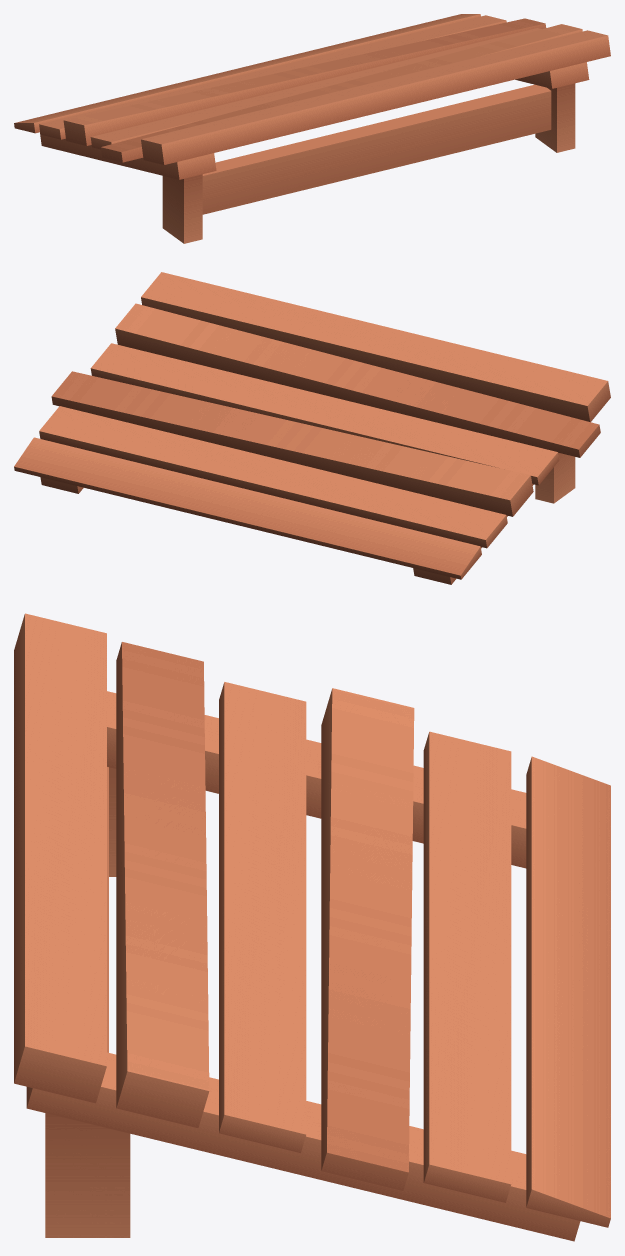
File: ramp-wide.glb
3 views of the same model, one above another, from view 1: azimuth 30°, elevation 25°; view 2: azimuth 150°, elevation 25°; view 3: azimuth 270°, elevation 25° (orthographic). The views are drawn at different scales.
Visible parts, largest first — view 1: ramp-wide; view 2: ramp-wide; view 3: ramp-wide.
Boxes of the visible parts, bbox=[...] form: ramp-wide: bbox=[14, 14, 610, 243]; ramp-wide: bbox=[14, 272, 610, 584]; ramp-wide: bbox=[14, 613, 610, 1241].
Size of the model in its own units: 5.14 by 1.14 by 2.81.
Materials: 1 (1 with a texture image).
